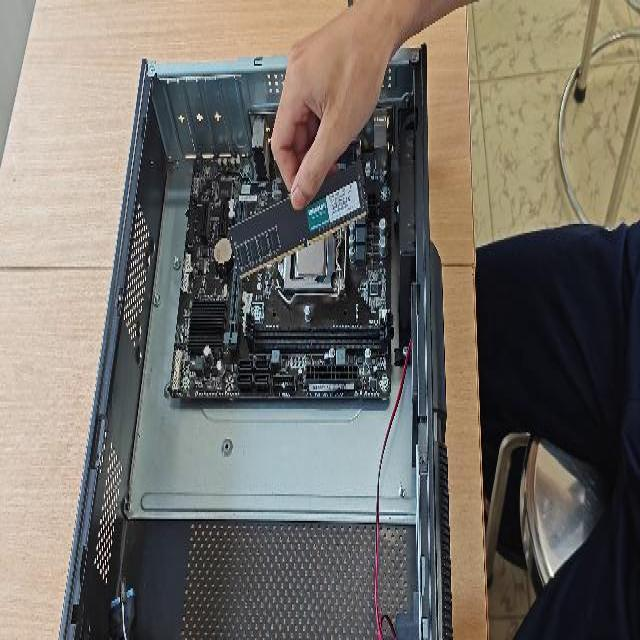CPU: (292, 239, 328, 282)
Mainboard: (169, 150, 394, 399)
RAM: (224, 160, 370, 281)
